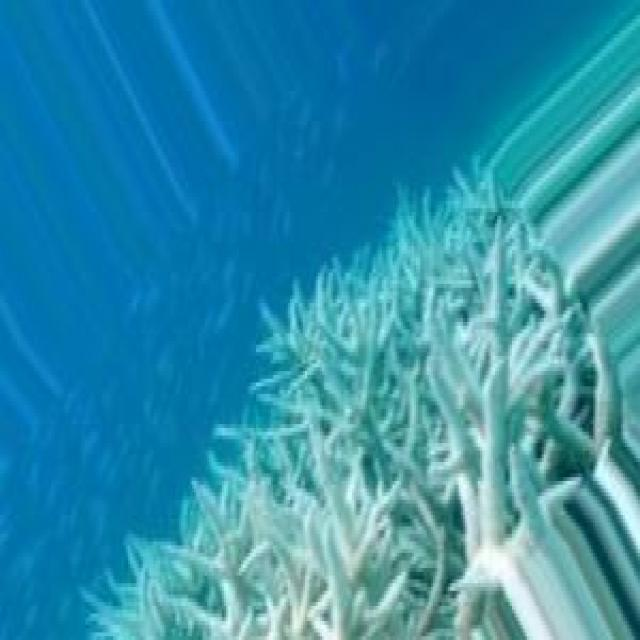Bleached: (95, 176, 627, 638)
